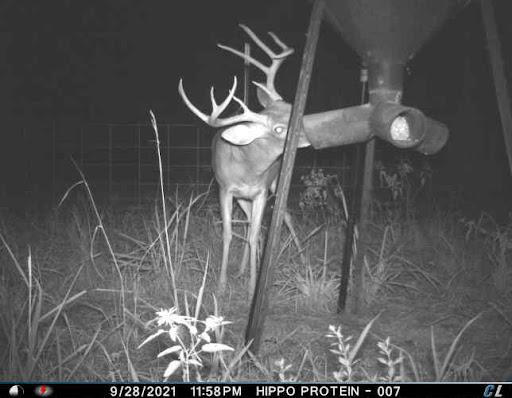Deer: (170, 16, 315, 315)
